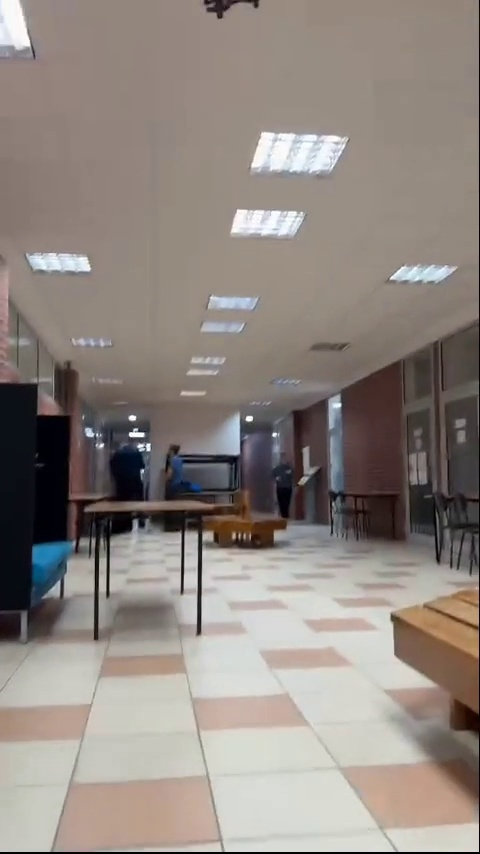drone: (200, 0, 261, 24)
no vest: (159, 442, 200, 502), (110, 434, 152, 491), (270, 448, 295, 527)
